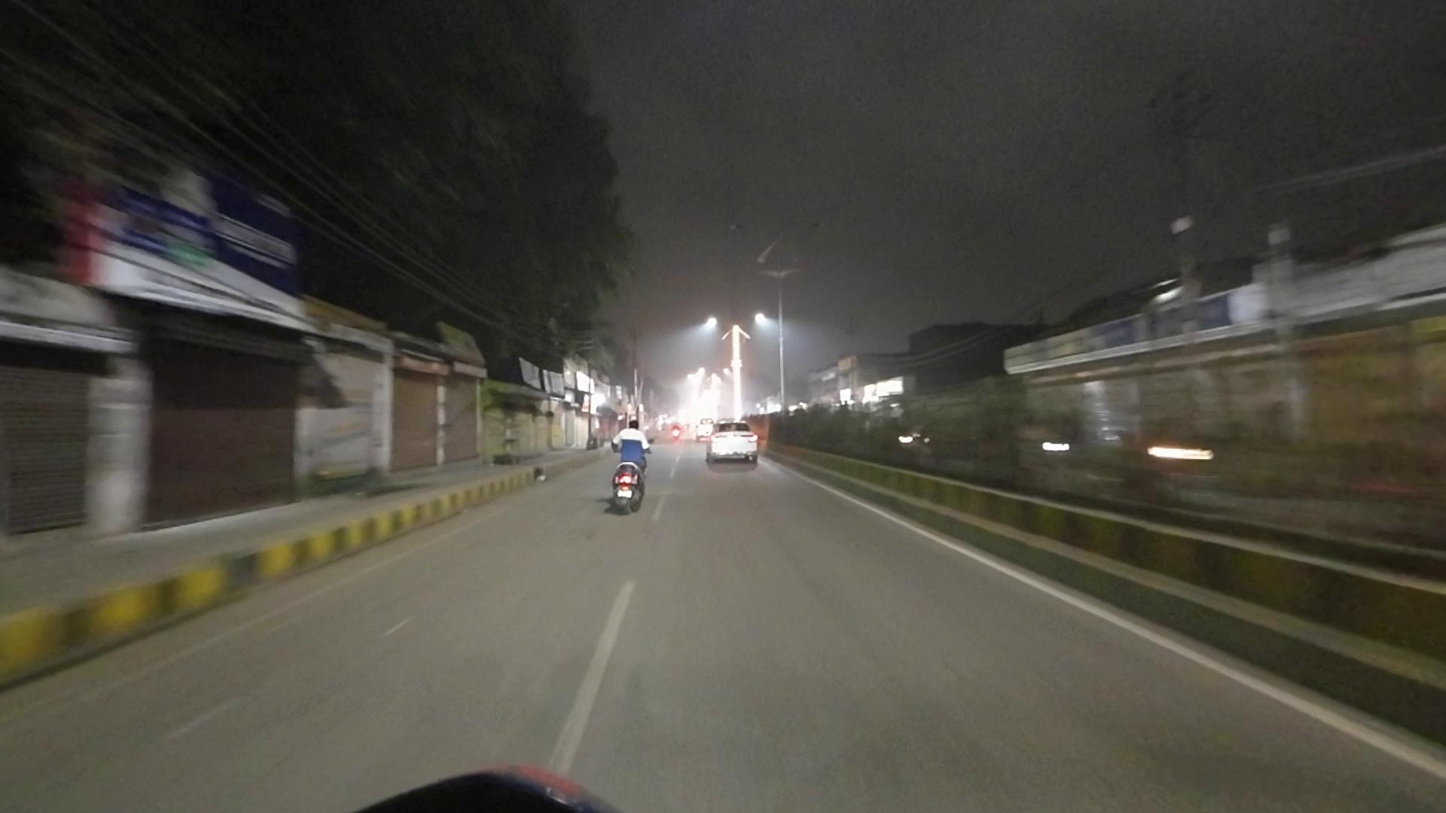streetlight: (727, 222, 775, 238), (786, 221, 824, 234)
